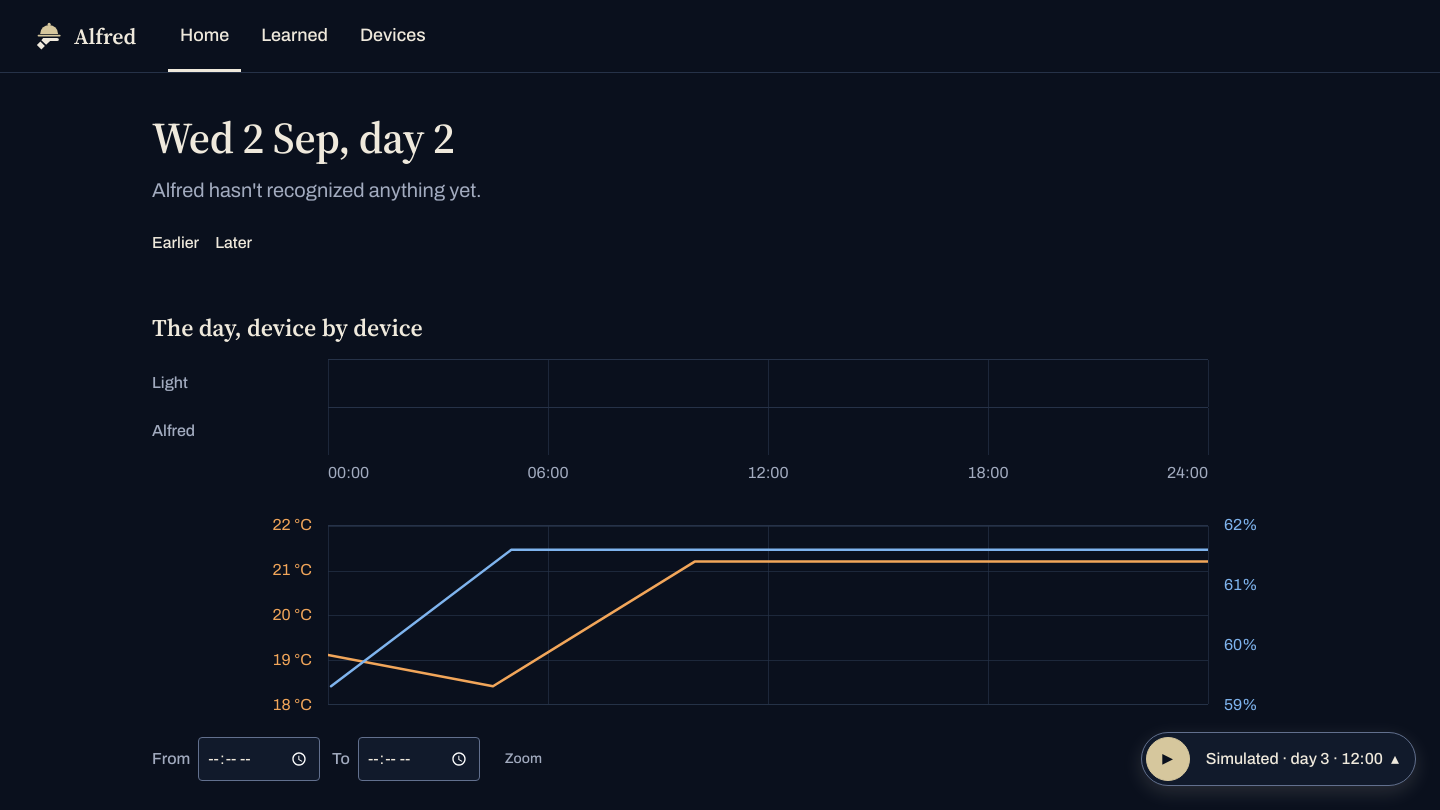
Test: a zoomed climate chart shows only that stretch of the day
Step 1. Type "04:00" into the time field labelled "From" → (259, 759), box [198,737,320,781]
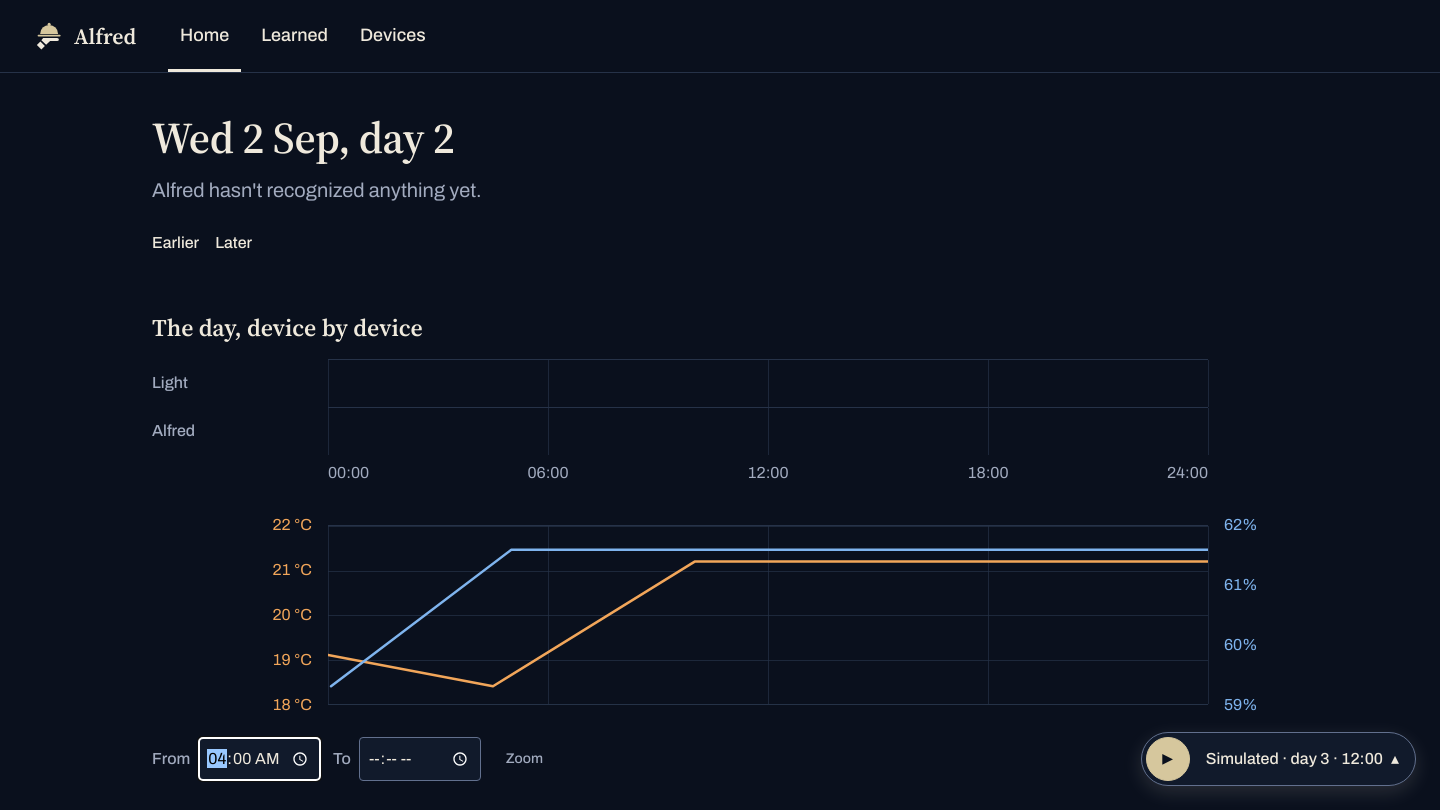
Step 2. Type "06:30" into the time field labelled "To" → (420, 759), box [359,737,481,781]
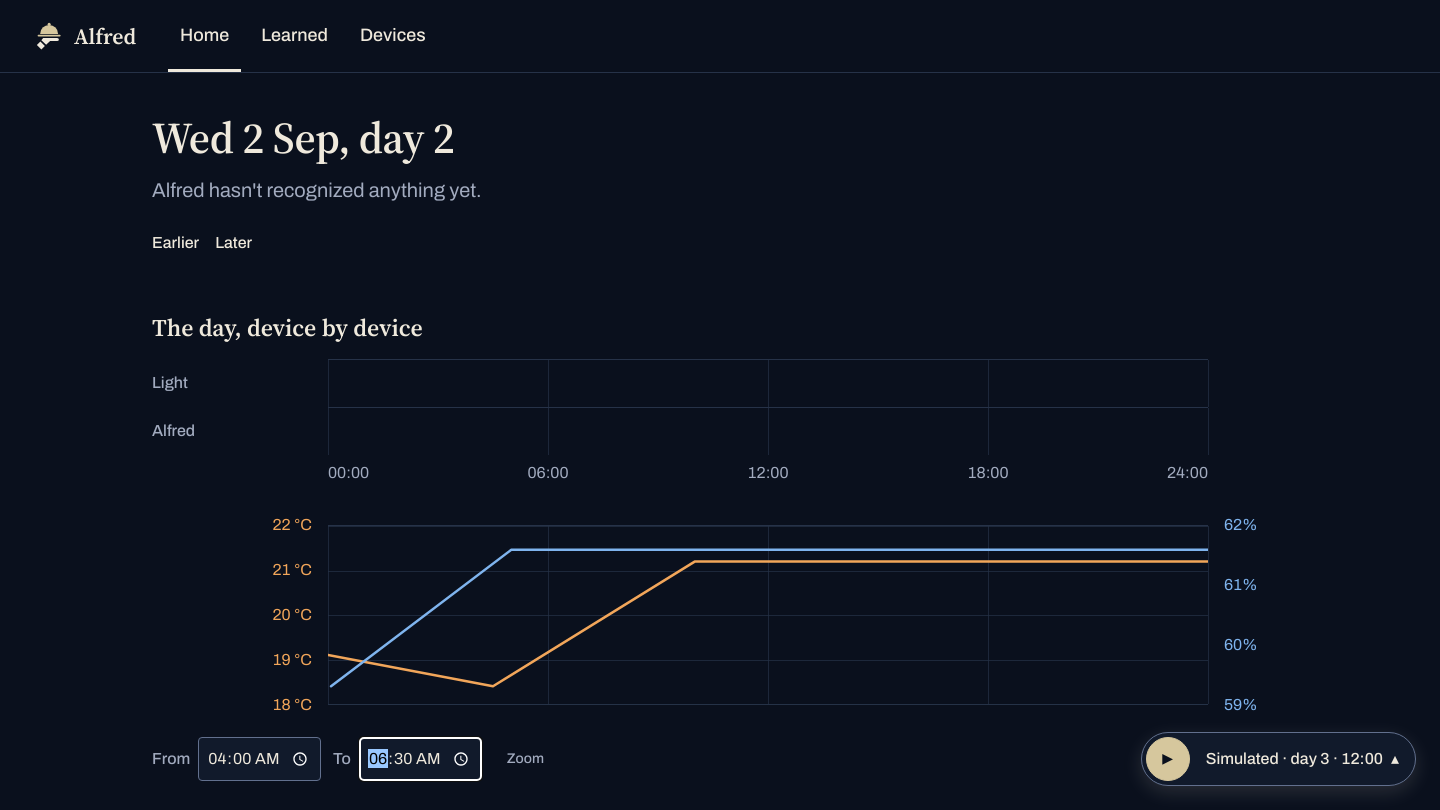
Step 3. Click the button "Zoom" → (525, 759), box [494,737,557,781]
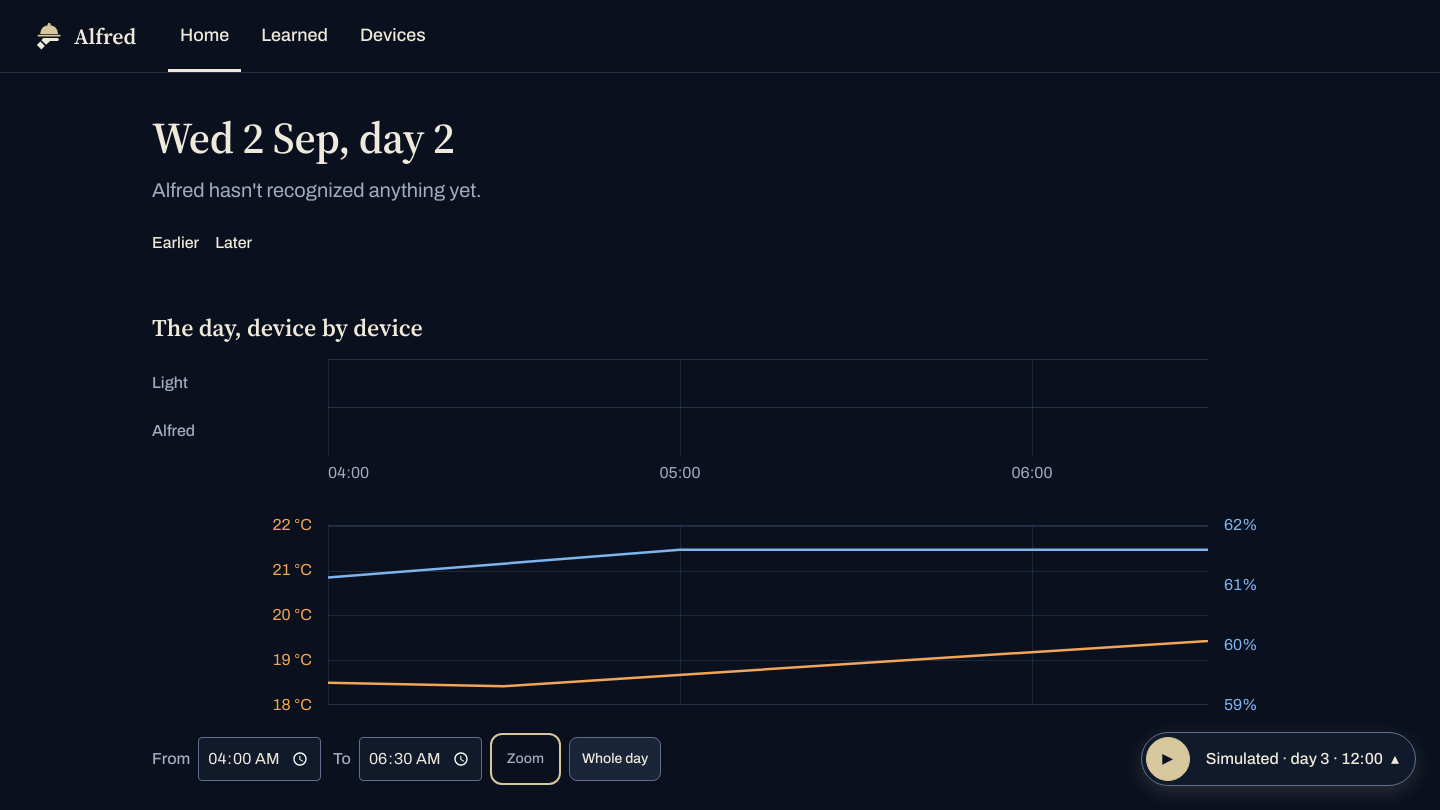
Now the icon next to "22 °C" has attribute viewBox="240 0 150 100", box [328,526,1208,704]
